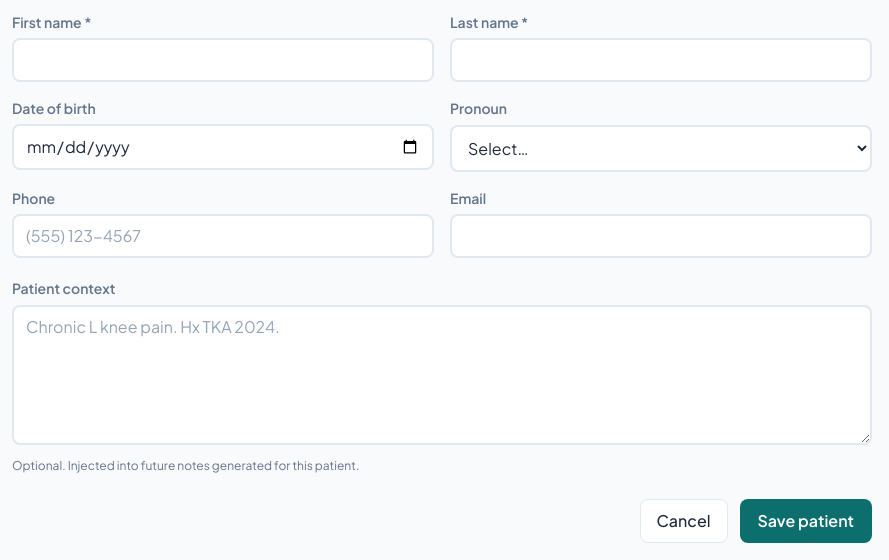
Test case: PatientCreateForm › formats phone input progressively as the user types
Type "5551234567" into the field labelled "Phone" at point(223, 236), box [12,214,434,258]
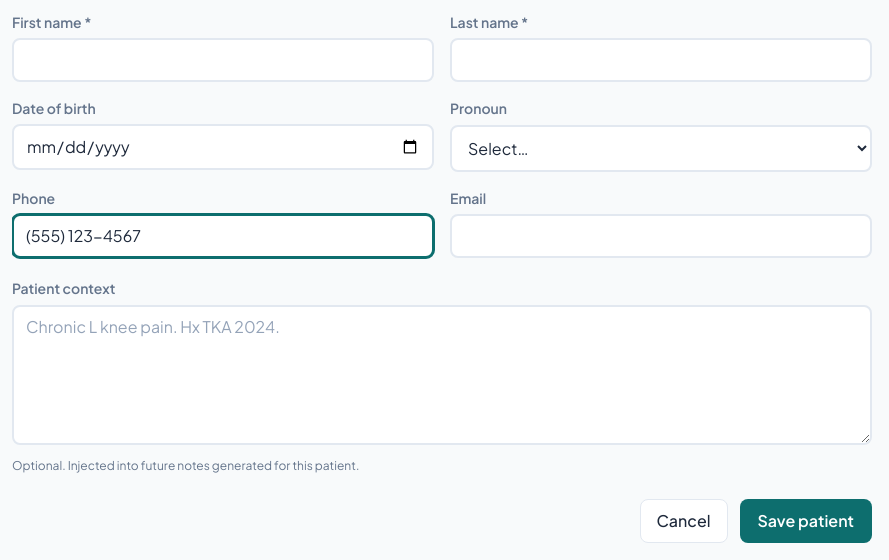
Check: the field labelled "Phone" holds "(555) 123-4567", box [12,214,434,258]
